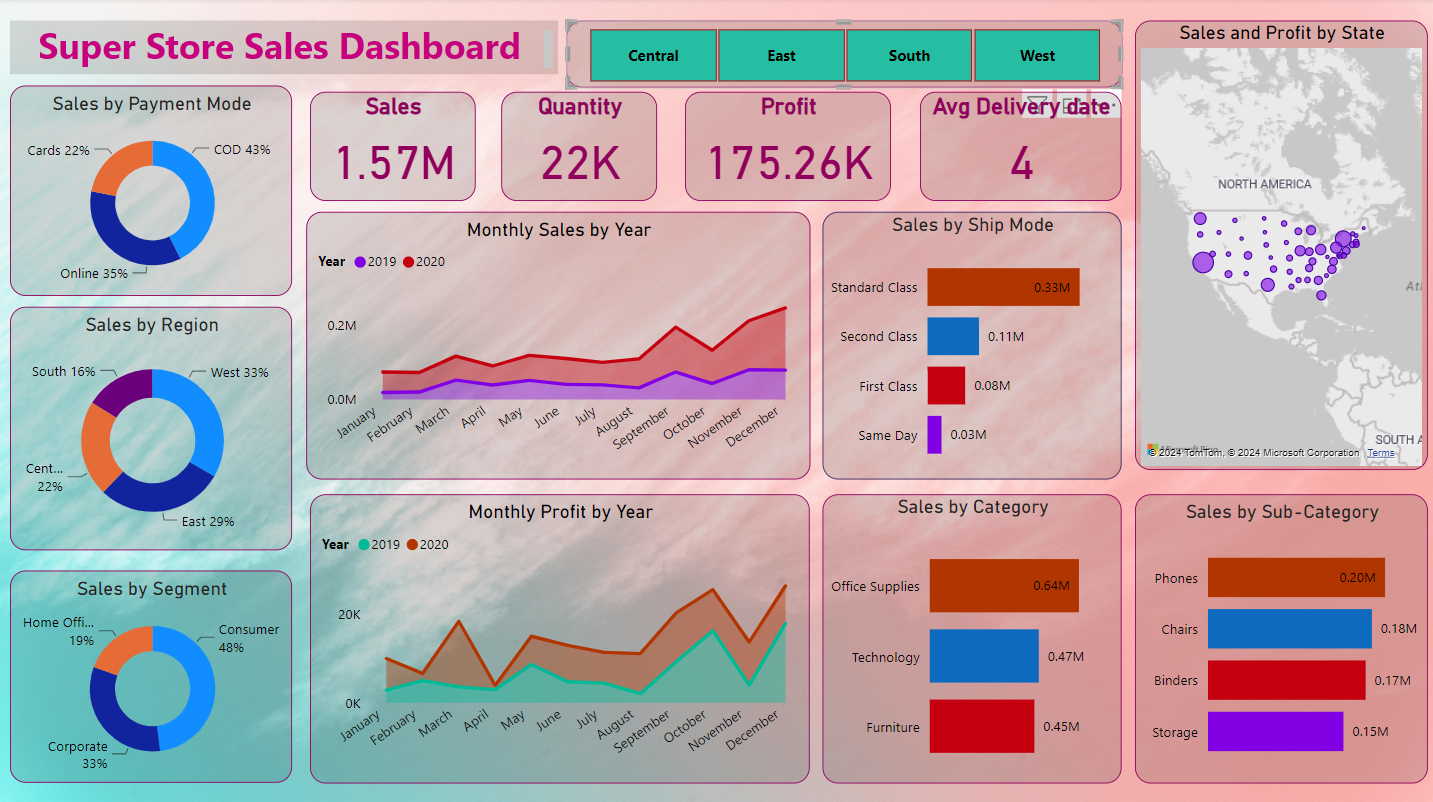

Layout of this report page (visuals, bound fields, positions):
{"tool":"powerbi","page":{"name":"Dashboard","canvas":[1280,720],"ordinal":0},"visuals":[{"type":"clusteredBarChart","title":"Sales by Category","fields":{"Category":["SuperStore_Sales_Dataset.Category"],"Y":["Sum(SuperStore_Sales_Dataset.Sales)"]},"box":[734.9,443,267.4,258.1],"z":0},{"type":"clusteredBarChart","title":"Sales by Sub-Category","fields":{"Category":["SuperStore_Sales_Dataset.Sub-Category"],"Y":["Sum(SuperStore_Sales_Dataset.Sales)"]},"box":[1014,443,261.6,258.1],"z":1000},{"type":"clusteredBarChart","title":"Sales by Ship Mode","fields":{"Y":["Sum(SuperStore_Sales_Dataset.Sales)"],"Category":["SuperStore_Sales_Dataset.Ship Mode"]},"box":[734.9,190.7,267.4,239.5],"z":2000},{"type":"stackedAreaChart","title":"Monthly Sales by Year","fields":{"Category":["SuperStore_Sales_Dataset.Order Date.Variation.Date Hierarchy.Month","SuperStore_Sales_Dataset.Order Date.Variation.Date Hierarchy.Day"],"Y":["Sum(SuperStore_Sales_Dataset.Sales)"],"Series":["SuperStore_Sales_Dataset.Order Date.Variation.Date Hierarchy.Year"]},"box":[273.3,190.7,450,239.5],"z":3000},{"type":"stackedAreaChart","title":"Monthly Profit by Year","fields":{"Category":["SuperStore_Sales_Dataset.Order Date.Variation.Date Hierarchy.Month","SuperStore_Sales_Dataset.Order Date.Variation.Date Hierarchy.Day"],"Series":["SuperStore_Sales_Dataset.Order Date.Variation.Date Hierarchy.Year"],"Y":["Sum(SuperStore_Sales_Dataset.Profit)"]},"box":[276.7,443,446.5,258.1],"z":4000},{"type":"map","title":"Sales and Profit by State","fields":{"Category":["SuperStore_Sales_Dataset.State"],"Size":["Sum(SuperStore_Sales_Dataset.Sales)"]},"box":[1013.9,20.1,261.3,402],"z":5000},{"type":"donutChart","title":"Sales by Segment","fields":{"Category":["SuperStore_Sales_Dataset.Segment"],"Y":["Sum(SuperStore_Sales_Dataset.Sales)"]},"box":[9.3,511.6,252.3,189.5],"z":6000},{"type":"donutChart","title":"Sales by Payment Mode","fields":{"Y":["Sum(SuperStore_Sales_Dataset.Sales)"],"Category":["SuperStore_Sales_Dataset.Payment Mode"]},"box":[9.3,77.9,252.3,188.4],"z":7000},{"type":"slicer","fields":{"Values":["SuperStore_Sales_Dataset.Region"]},"box":[505.8,20.1,496.9,60.3],"z":7001},{"type":"textbox","box":[9.3,19.8,489.5,47.7],"z":7002},{"type":"card","title":"Sales","fields":{"Values":["Sum(SuperStore_Sales_Dataset.Sales)"]},"box":[276.7,83.7,147.7,97.7],"z":7003},{"type":"card","title":"Quantity","fields":{"Values":["Sum(SuperStore_Sales_Dataset.Quantity)"]},"box":[447.7,83.7,139.5,97.7],"z":7004},{"type":"card","title":"Profit","fields":{"Values":["Sum(SuperStore_Sales_Dataset.Profit)"]},"box":[611.6,83.7,183.7,97.7],"z":7005},{"type":"card","title":"Avg Delivery date","fields":{"Values":["Avg(SuperStore_Sales_Dataset.AvgDelivery)"]},"box":[822.1,83.7,180.2,97.7],"z":7006},{"type":"donutChart","title":"Sales by Region","fields":{"Y":["Sum(SuperStore_Sales_Dataset.Sales)"],"Category":["SuperStore_Sales_Dataset.Region"]},"box":[9.3,275.6,252.3,217.4],"z":7007}]}

Visuals, with their boxes in screenshot pixels (x1, y1, x2, y2), scaled from the page's 1280x720 canvas onto the 1433x802 screenshot:
"Sales by Category" clusteredBarChart: BBox(823, 493, 1122, 781)
"Sales by Sub-Category" clusteredBarChart: BBox(1135, 493, 1428, 781)
"Sales by Ship Mode" clusteredBarChart: BBox(823, 212, 1122, 479)
"Monthly Sales by Year" stackedAreaChart: BBox(306, 212, 810, 479)
"Monthly Profit by Year" stackedAreaChart: BBox(310, 493, 810, 781)
"Sales and Profit by State" map: BBox(1135, 22, 1428, 470)
"Sales by Segment" donutChart: BBox(10, 570, 293, 781)
"Sales by Payment Mode" donutChart: BBox(10, 87, 293, 297)
slicer - SuperStore_Sales_Dataset.Region: BBox(566, 22, 1123, 90)
textbox: BBox(10, 22, 558, 75)
"Sales" card: BBox(310, 93, 475, 202)
"Quantity" card: BBox(501, 93, 657, 202)
"Profit" card: BBox(685, 93, 890, 202)
"Avg Delivery date" card: BBox(920, 93, 1122, 202)
"Sales by Region" donutChart: BBox(10, 307, 293, 549)
